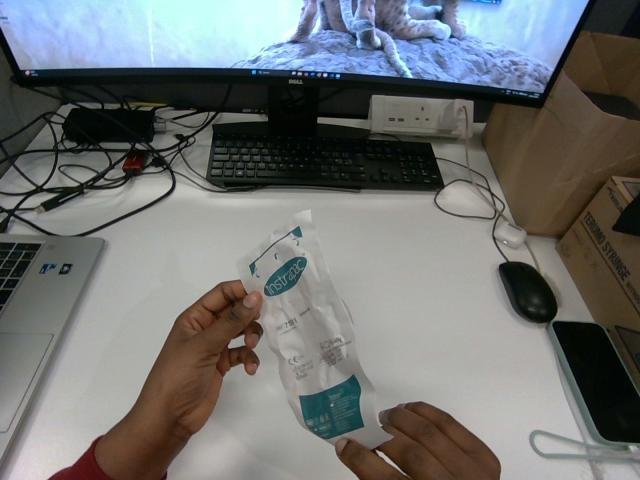gallipot: (237, 211, 391, 448)
